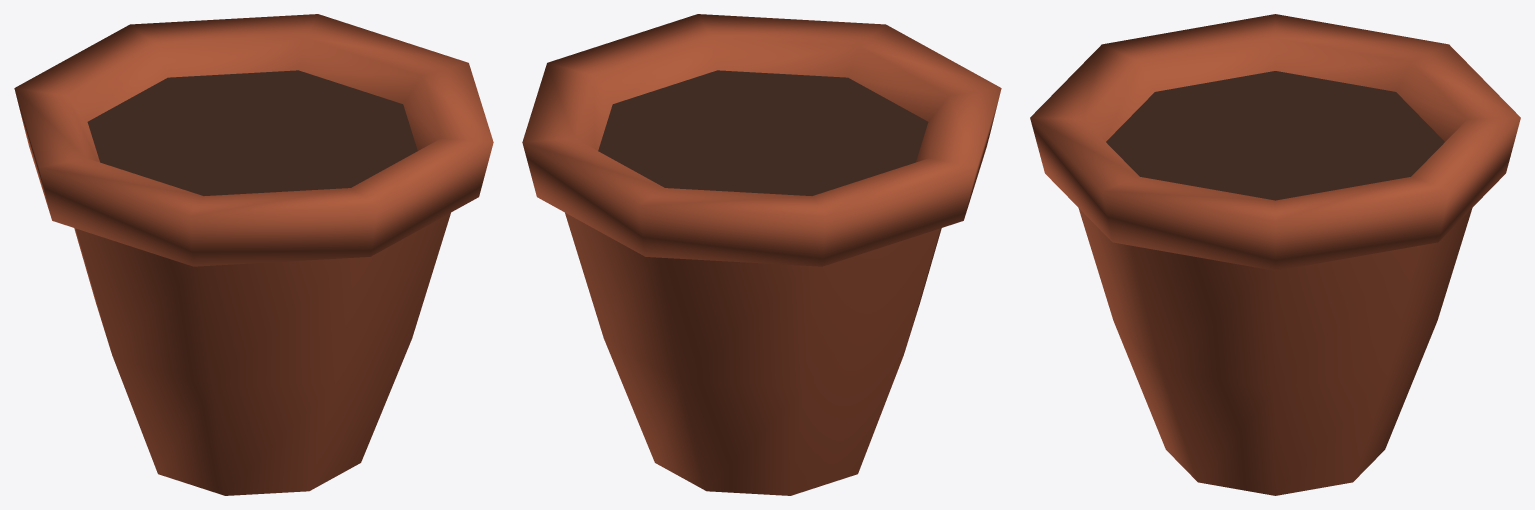
File: pot.fbx
3 views of the same model, side by side, from view 1: azimuth 30°, elevation 25°; view 2: azimuth 150°, elevation 25°; view 3: azimuth 270°, elevation 25° (orthographic).
Parts seen in each view (by area): view 1: Pot; view 2: Pot; view 3: Pot.
Part boxes in pixels (x1,y1,x2,y2): Pot: [14, 14, 493, 495]; Pot: [522, 14, 1001, 495]; Pot: [1030, 14, 1520, 495].
Size of the model in its own units: 55.53 by 41.42 by 55.53.
